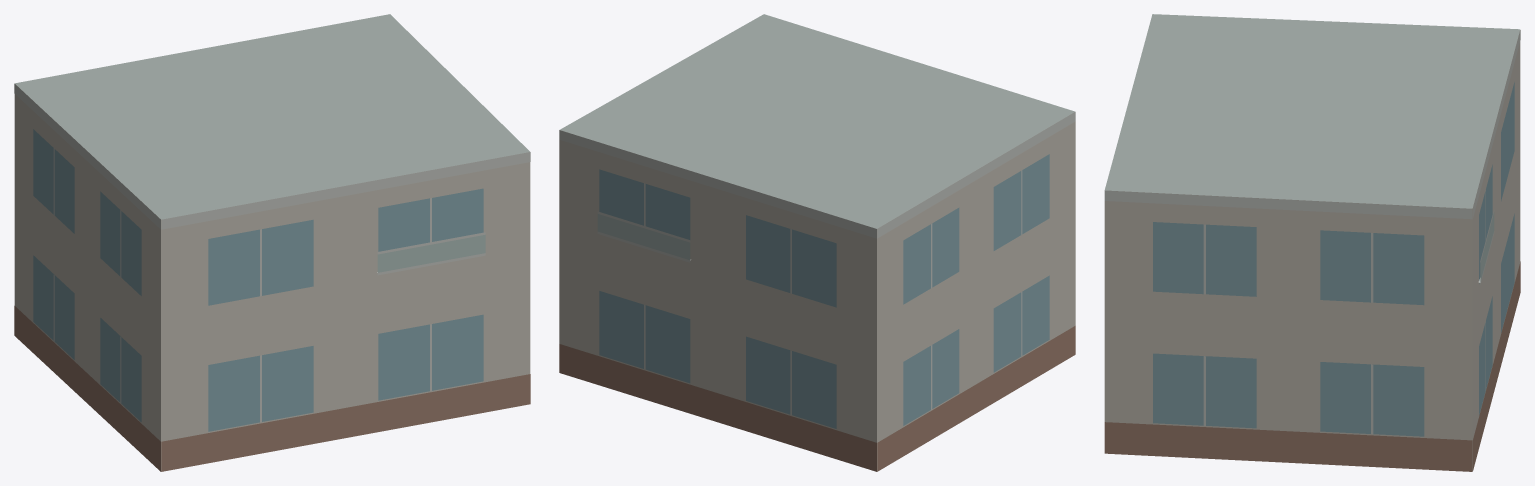
The model's file is survey-upis-32927524.glb.
The picture shows the model from 3 angles, left to right: view 1: azimuth 30°, elevation 25°; view 2: azimuth 150°, elevation 25°; view 3: azimuth 270°, elevation 25°; orthographic projection. The views are drawn at different scales.
Parts seen in each view (by area): view 1: survey-upis-32927524.tmp; view 2: survey-upis-32927524.tmp; view 3: survey-upis-32927524.tmp.
Boxes of the visible parts, <box> form: survey-upis-32927524.tmp: <box>14,14,530,471</box>; survey-upis-32927524.tmp: <box>559,14,1075,471</box>; survey-upis-32927524.tmp: <box>1104,14,1520,471</box>.
Size of the model in its own units: 9.69 by 6.1 by 8.75.
